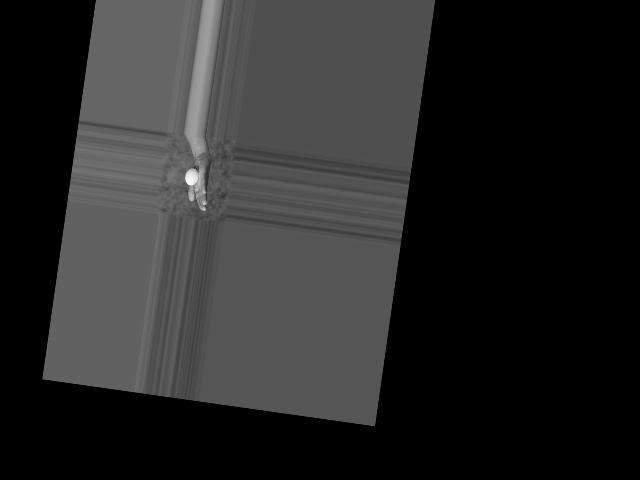egg: (184, 167, 199, 186)
